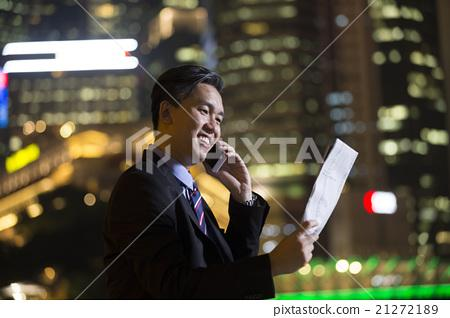talk: (184, 99, 249, 195)
